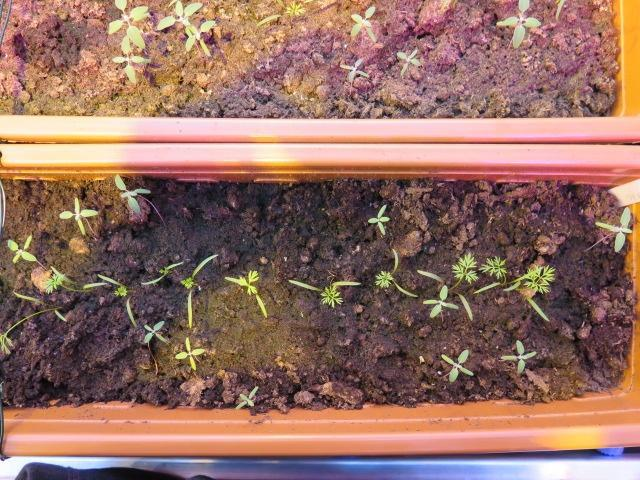weed: (589, 198, 634, 256), (110, 170, 153, 217), (56, 190, 99, 234), (497, 333, 537, 378), (436, 344, 474, 384), (171, 333, 208, 371), (347, 0, 378, 44), (335, 53, 370, 85), (392, 44, 423, 80), (4, 232, 38, 264), (363, 199, 390, 237), (140, 315, 168, 346), (232, 382, 260, 411)
